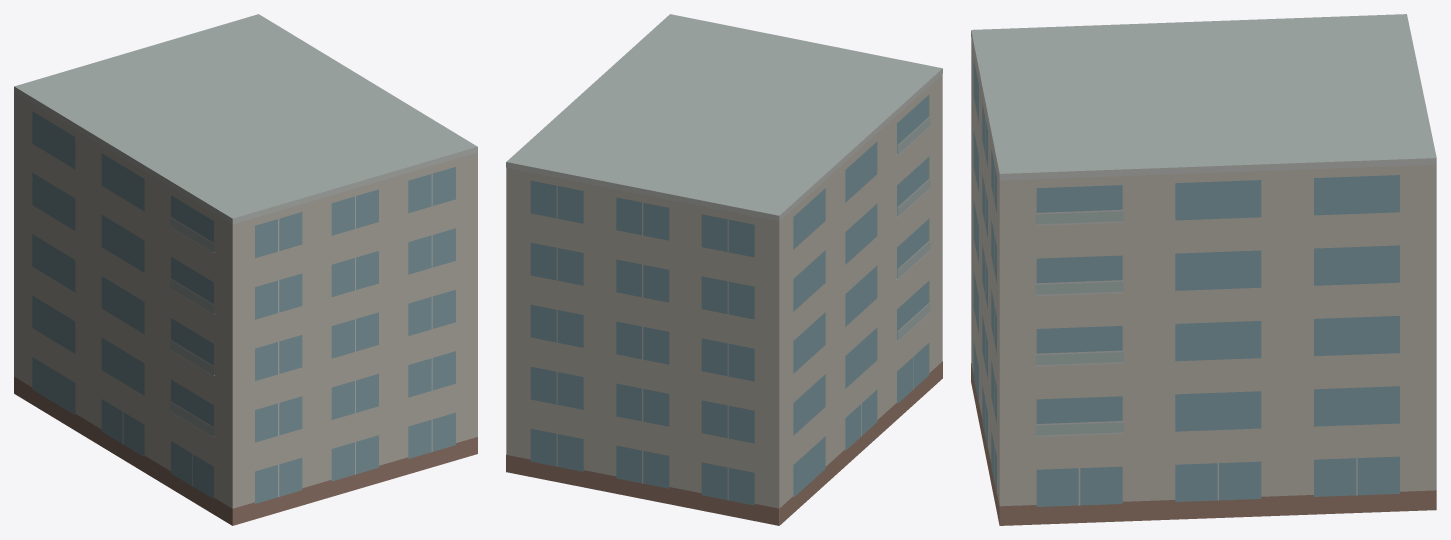
File: survey-upis-33008477.glb
3 renders of one model, left to right at view 1: azimuth 30°, elevation 25°; view 2: azimuth 150°, elevation 25°; view 3: azimuth 270°, elevation 25°, orthographic. The views are drawn at different scales.
Parts seen in each view (by area): view 1: survey-upis-33008477.tmp; view 2: survey-upis-33008477.tmp; view 3: survey-upis-33008477.tmp.
Boxes of the visible parts, x1=… form: survey-upis-33008477.tmp: x1=14, y1=14, x2=477, y2=525; survey-upis-33008477.tmp: x1=506, y1=14, x2=942, y2=525; survey-upis-33008477.tmp: x1=971, y1=14, x2=1436, y2=525.
Size of the model in its own units: 12.68 by 13 by 15.6.
